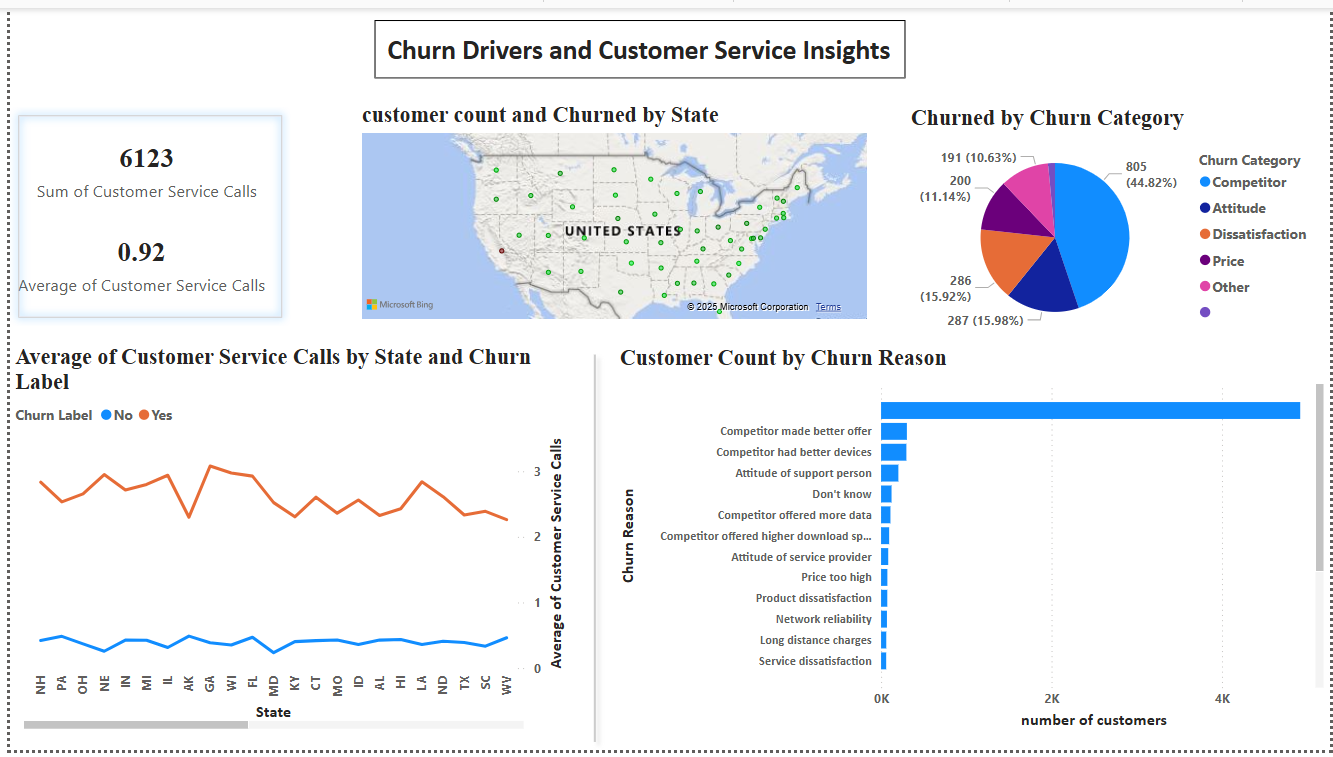

The dashboard page shown, as its layout file describes it:
{"tool":"powerbi","page":{"name":"Page 2","canvas":[1280,720],"ordinal":1},"visuals":[{"type":"barChart","title":"Customer Count by Churn Reason","fields":{"Category":["Databel - Data.Churn Reason"],"Y":["Databel - Data.number of customers"]},"box":[586.6,327.5,692.8,377],"z":0},{"type":"pieChart","fields":{"Y":["Databel - Data.Churned"],"Category":["Databel - Data.Churn Category"]},"box":[869,94.6,410.5,231.4],"z":1000},{"type":"lineChart","fields":{"Category":["Databel - Data.State"],"Series":["Databel - Data.Churn Label"],"Y2":["Avg(Databel - Data.Customer Service Calls)"]},"box":[0,326,544.4,378.4],"z":2000},{"type":"card","fields":{"Values":["Sum(Databel - Data.Customer Service Calls)"]},"box":[18.9,113.5,227.1,83],"z":3000},{"type":"card","fields":{"Values":["Avg(Databel - Data.Customer Service Calls)"]},"box":[0,196.5,254.7,100.4],"z":4000},{"type":"map","title":"customer count and Churned by State","fields":{"Category":["Databel - Data.State"]},"box":[336.8,92.3,500.3,215.4],"z":5000},{"type":"textbox","box":[361,18.9,508,43.7],"z":6000},{"type":"shape","box":[353.7,11.6,515.3,56.8],"z":7000},{"type":"shape","box":[0,96.1,272.2,212.5],"z":8000},{"type":"shape","box":[417.8,327.1,299.6,393.5],"z":9000}]}

Visuals, with their boxes in screenshot pixels (x1, y1, x2, y2), scaled from the page's 1280x720 canvas onto the 1333x757 screenshot:
"Customer Count by Churn Reason" barChart: {"left": 611, "top": 344, "right": 1332, "bottom": 741}
pieChart - Databel - Data.Churned x Databel - Data.Churn Category: {"left": 905, "top": 99, "right": 1332, "bottom": 343}
lineChart - Databel - Data.State x Databel - Data.Churn Label: {"left": 0, "top": 343, "right": 567, "bottom": 741}
card - Sum(Databel - Data.Customer Service Calls): {"left": 20, "top": 119, "right": 256, "bottom": 207}
card - Avg(Databel - Data.Customer Service Calls): {"left": 0, "top": 207, "right": 265, "bottom": 312}
"customer count and Churned by State" map: {"left": 351, "top": 97, "right": 872, "bottom": 324}
textbox: {"left": 376, "top": 20, "right": 905, "bottom": 66}
shape: {"left": 368, "top": 12, "right": 905, "bottom": 72}
shape: {"left": 0, "top": 101, "right": 283, "bottom": 324}
shape: {"left": 435, "top": 344, "right": 747, "bottom": 756}
